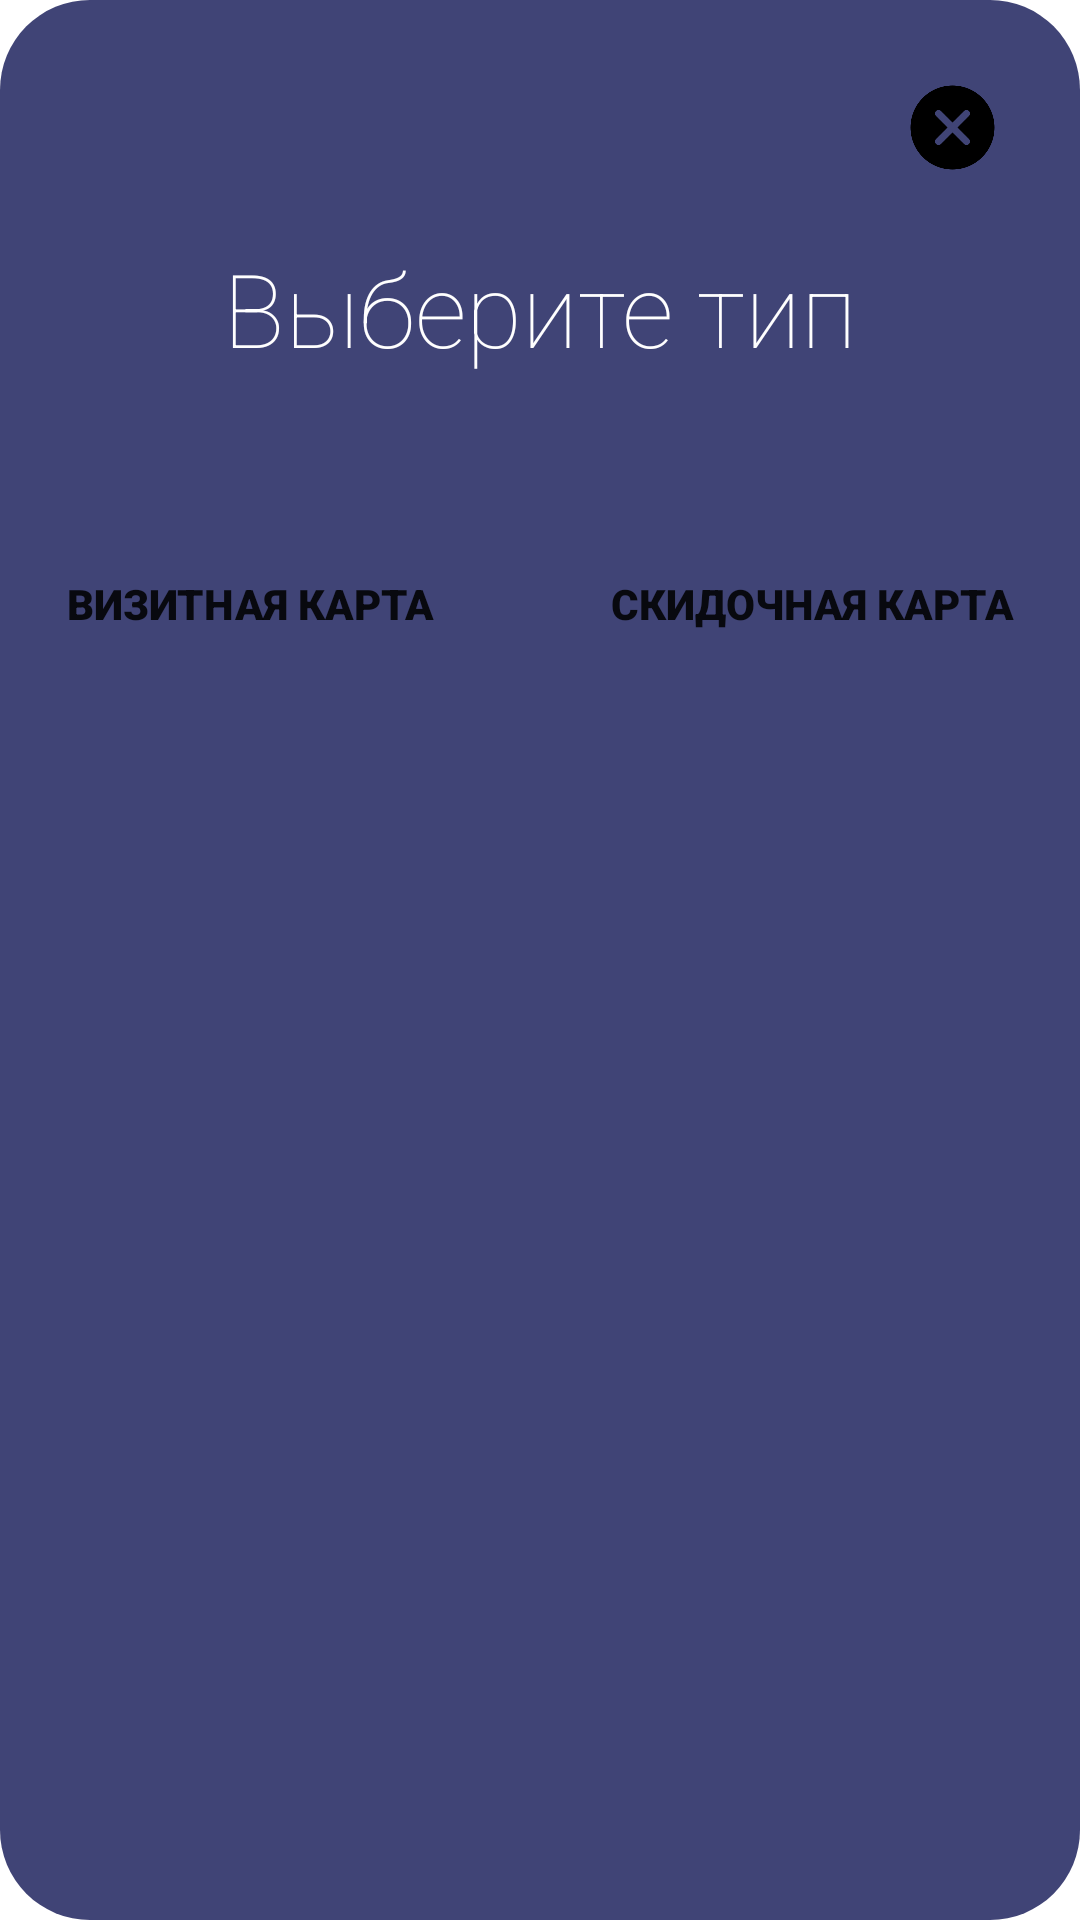

Named icons in this screenshot (1080 x 1920) and their centers, [x,y]:
close: [952,127]
